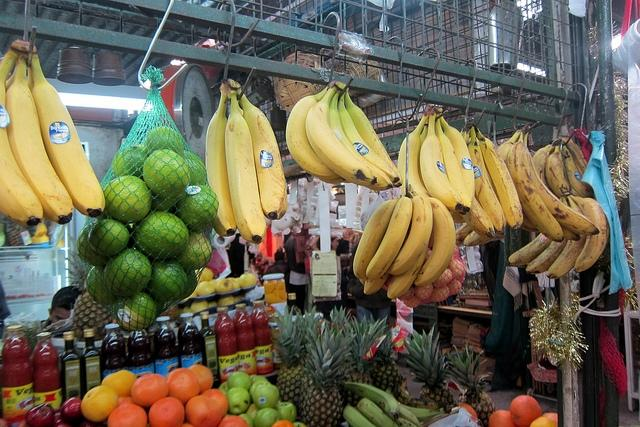apple: (225, 387, 251, 415), (254, 407, 282, 427), (275, 402, 297, 423), (530, 416, 557, 426), (250, 376, 270, 386)
banana: (30, 47, 105, 218), (5, 52, 72, 224), (0, 49, 44, 228), (524, 131, 599, 236), (306, 80, 378, 186), (224, 78, 266, 244), (506, 124, 564, 242), (329, 90, 393, 190), (238, 94, 288, 220), (338, 88, 400, 184), (344, 88, 402, 188), (474, 124, 524, 229), (286, 84, 340, 180), (420, 111, 463, 211), (469, 124, 507, 234), (354, 193, 402, 278), (386, 192, 434, 276), (366, 196, 413, 280), (413, 197, 456, 287), (434, 118, 472, 212), (438, 107, 475, 202), (546, 195, 587, 278), (398, 104, 433, 198), (568, 192, 606, 273), (387, 241, 429, 298), (343, 382, 400, 420), (562, 142, 594, 198), (506, 232, 552, 266), (533, 138, 562, 190), (526, 239, 567, 274), (460, 198, 494, 239), (546, 144, 570, 198), (562, 138, 588, 178), (498, 130, 520, 168), (364, 271, 390, 295), (462, 230, 499, 246), (456, 224, 474, 241)
lime: (136, 211, 190, 261), (103, 175, 152, 224), (143, 149, 190, 199), (104, 250, 152, 296), (176, 184, 219, 230), (148, 259, 188, 302), (113, 292, 157, 331), (88, 219, 129, 257), (176, 231, 212, 272), (86, 265, 117, 305), (112, 148, 148, 182), (144, 126, 183, 156), (183, 150, 207, 186), (148, 191, 178, 213)
orange: (164, 368, 199, 407), (130, 374, 168, 408), (185, 395, 221, 427), (148, 397, 185, 427), (509, 396, 543, 427), (108, 403, 148, 427), (188, 365, 214, 395), (202, 389, 228, 418), (488, 410, 518, 427), (217, 415, 250, 427), (457, 402, 478, 420), (542, 412, 557, 427), (272, 420, 294, 427)
pineapple: (300, 327, 357, 427), (400, 322, 458, 408), (337, 314, 387, 408), (444, 339, 496, 427), (270, 304, 306, 418), (71, 290, 114, 342), (371, 326, 404, 390), (390, 373, 410, 406), (329, 304, 346, 331)
